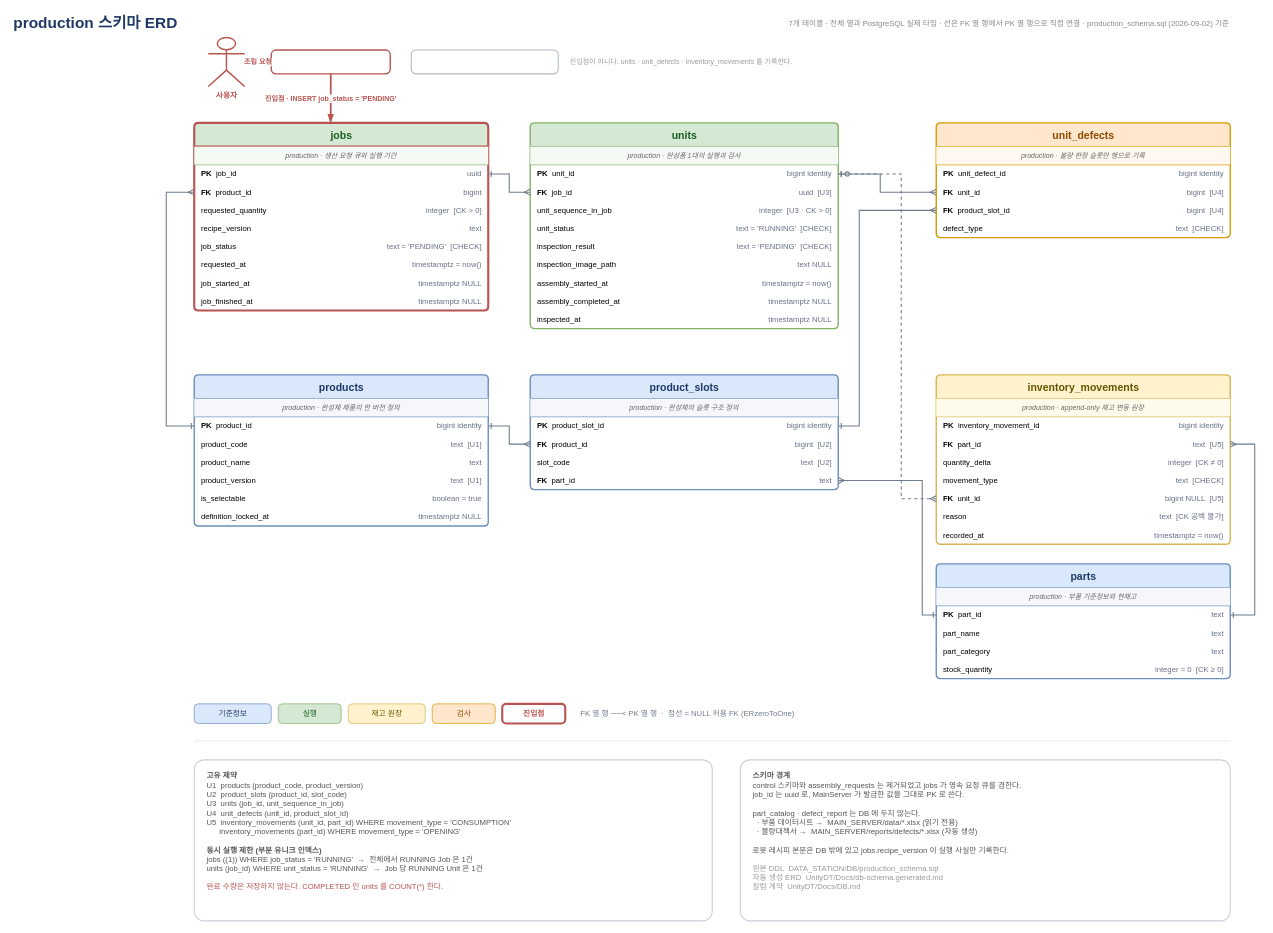
Some shapes in this 1273 by 933 pixel diagram are drawn without their labels. The centre of each missing label's shape, as x and y in pixels:
AssemblySequencer: [484,61]
MainServer: [330,61]
